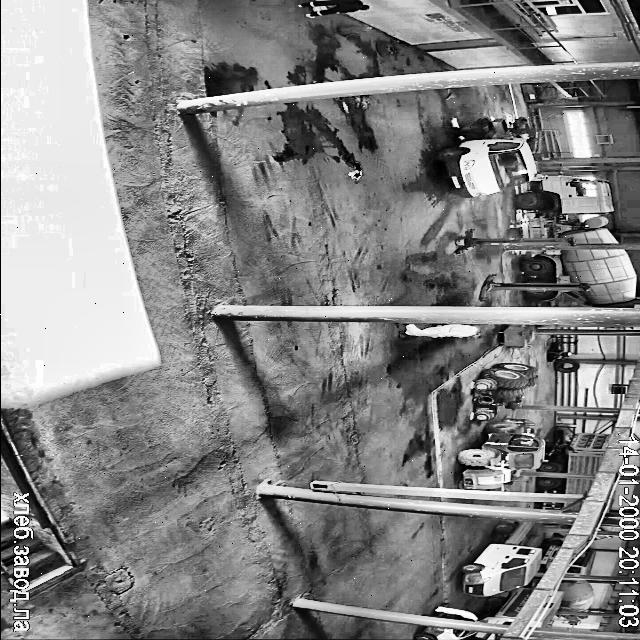class4: (300, 0, 370, 17), (399, 324, 482, 337), (433, 604, 477, 620)
class6: (458, 419, 544, 489), (475, 362, 537, 420)
class7: (438, 118, 538, 196), (516, 176, 616, 244), (523, 248, 636, 306), (460, 521, 540, 596), (539, 433, 611, 474), (487, 588, 532, 622), (557, 580, 594, 612), (538, 477, 592, 494), (540, 592, 562, 627), (567, 549, 595, 575), (541, 536, 563, 567), (564, 614, 587, 621), (543, 500, 562, 508), (571, 504, 578, 510)
truck: (479, 274, 588, 300), (455, 229, 573, 253)
